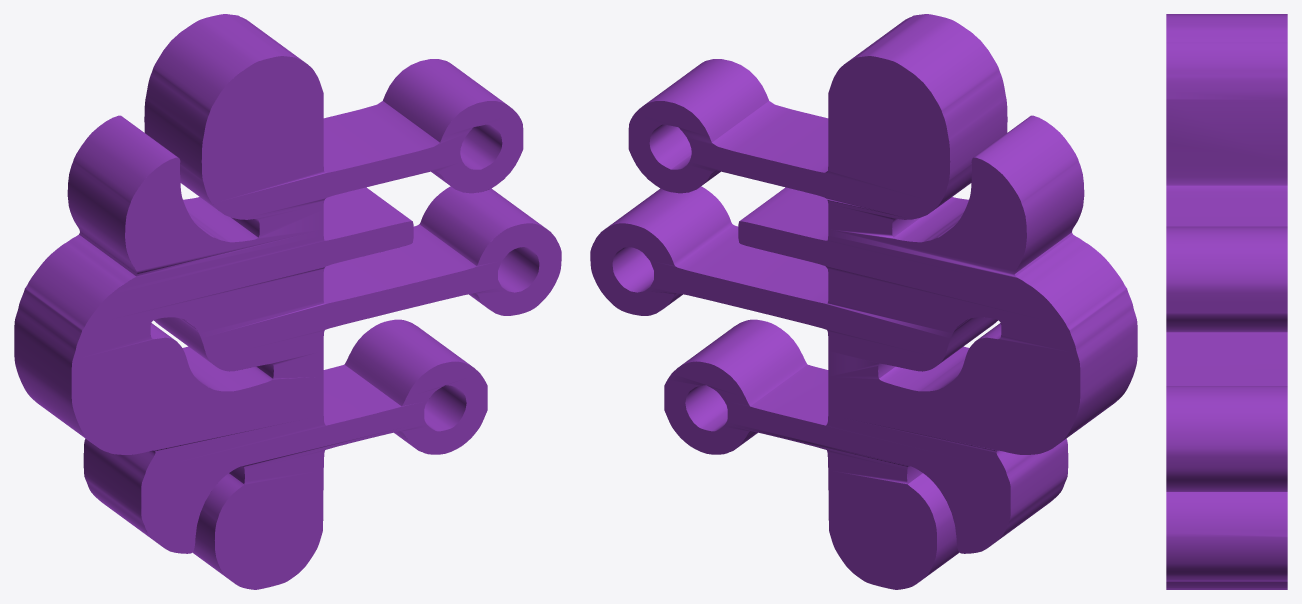
The model's file is conai-icon.glb.
The picture shows the model from 3 angles, left to right: view 1: azimuth 30°, elevation 25°; view 2: azimuth 150°, elevation 25°; view 3: azimuth 270°, elevation 25°; orthographic projection. The views are drawn at different scales.
Visible parts, largest first — view 1: ConAI-icon-web; view 2: ConAI-icon-web; view 3: ConAI-icon-web.
Part boxes in pixels (x1,y1,x2,y2): ConAI-icon-web: [14, 14, 561, 589]; ConAI-icon-web: [590, 14, 1137, 589]; ConAI-icon-web: [1166, 14, 1287, 589].
Size of the model in its own units: 0.9158 by 0.9444 by 0.1856.
